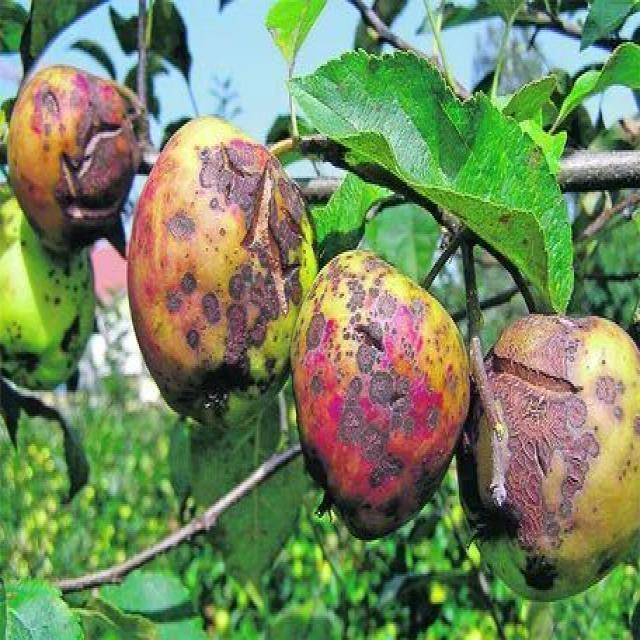Rotten: (294, 262, 474, 522), (142, 135, 308, 390), (475, 318, 640, 558), (10, 63, 143, 250)
